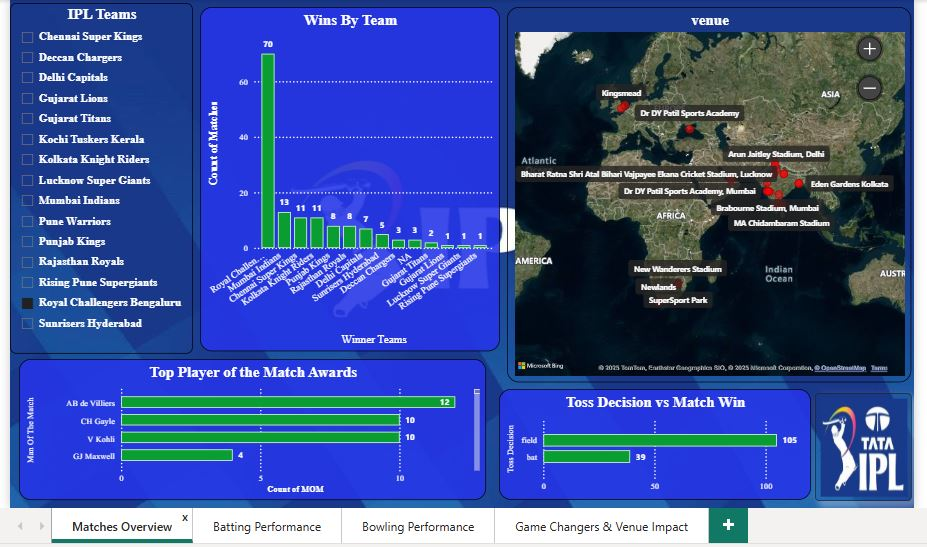

The dashboard page shown, as its layout file describes it:
{"tool":"powerbi","page":{"name":"Matches Overview","canvas":[1280,720],"ordinal":0},"visuals":[{"type":"slicer","title":"IPL Teams","fields":{"Values":["matches.team1"]},"box":[0,4.3,259.4,497.5],"z":0},{"type":"columnChart","title":"Wins By Team","fields":{"Category":["matches.winner"],"Y":["CountNonNull(matches.id)"]},"box":[268.9,10,424.8,487.7],"z":1000},{"type":"clusteredBarChart","title":"Toss Decision vs Match Win","fields":{"Category":["matches.toss_decision"],"Y":["CountNonNull(matches.winner)"]},"box":[693.6,552,441.9,157.3],"z":2000},{"type":"barChart","title":"Top Player of the Match Awards","fields":{"Category":["matches.player_of_match"],"Y":["CountNonNull(matches.id)"]},"box":[12.9,509.1,662.2,200.2],"z":3000},{"type":"map","fields":{"Category":["matches.venue"]},"box":[705.1,10,573.5,532],"z":4000},{"type":"image","box":[1141.3,556.3,137.3,153],"z":5000}]}

Visuals, with their boxes on the page's 1280x720 design canvas (x1, y1, x2, y2). These are canvas units, not pixel positions in the 927x547 screenshot, which may show the page scaled, cropped or inside an application window:
"IPL Teams" slicer: rect(0, 4, 259, 502)
"Wins By Team" columnChart: rect(269, 10, 694, 498)
"Toss Decision vs Match Win" clusteredBarChart: rect(694, 552, 1136, 709)
"Top Player of the Match Awards" barChart: rect(13, 509, 675, 709)
map - matches.venue: rect(705, 10, 1279, 542)
image: rect(1141, 556, 1279, 709)
